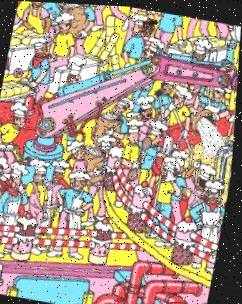waldo: (141, 15, 158, 34)
